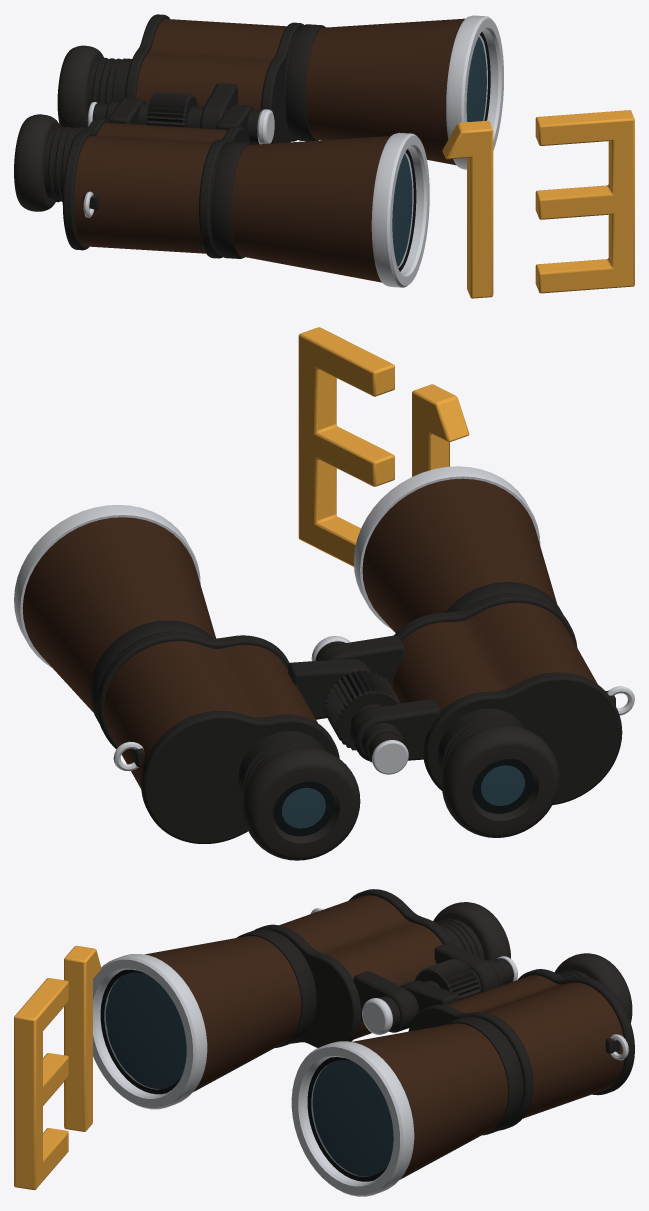
The model's file is binoculars.glb.
3 views of the same model, one above another, from view 1: azimuth 30°, elevation 25°; view 2: azimuth 150°, elevation 25°; view 3: azimuth 270°, elevation 25° (orthographic). The views are drawn at different scales.
Visible parts, largest first — view 1: barrel, band, num_1, rim, eyecup, eye_lens, back_post, back_cap, eye_well; view 2: barrel, band, num_1, eyecup, rim, eye_lens, eye_well, back_cap, back_post; view 3: barrel, band, eye_lens, rim, num_1, eyecup, eye_well, back_cap, back_post.
Boxes of the visible parts, <box> form: barrel: <box>74,18,464,282</box>; band: <box>44,14,325,258</box>; num_1: <box>442,110,634,298</box>; rim: <box>371,15,503,287</box>; eyecup: <box>14,45,103,211</box>; eye_lens: <box>392,37,486,266</box>; back_post: <box>83,101,261,209</box>; back_cap: <box>83,102,274,217</box>; eye_well: <box>398,32,490,271</box>; barrel: <box>22,478,597,788</box>; band: <box>90,582,622,843</box>; num_1: <box>298,327,469,566</box>; eyecup: <box>242,725,559,860</box>; rim: <box>14,466,540,667</box>; eye_lens: <box>282,765,524,828</box>; eye_well: <box>273,759,533,836</box>; back_cap: <box>113,636,634,774</box>; back_post: <box>132,641,615,766</box>; barrel: <box>144,895,624,1179</box>; band: <box>236,889,634,1135</box>; eye_lens: <box>105,972,393,1176</box>; rim: <box>93,954,414,1196</box>; num_1: <box>14,945,101,1189</box>; eyecup: <box>433,902,632,1022</box>; eye_well: <box>100,969,388,1181</box>; back_cap: <box>310,908,628,1060</box>; back_post: <box>378,958,619,1053</box>.
Size of the model in its own units: 0.2181 by 0.075 by 0.2461.
